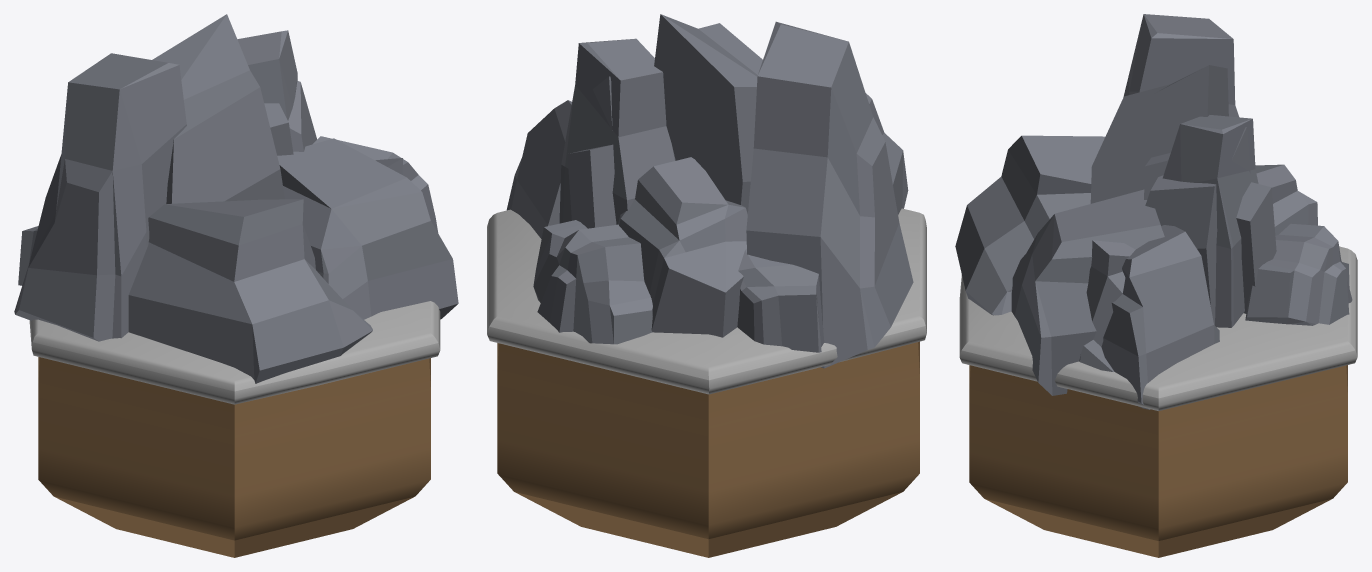
The model's file is Mountains3.fbx.
3 renders of one model, left to right at view 1: azimuth 30°, elevation 25°; view 2: azimuth 150°, elevation 25°; view 3: azimuth 270°, elevation 25°, orthographic. The views are drawn at different scales.
Visible parts, largest first — view 1: polySurface97; view 2: polySurface97; view 3: polySurface97.
Boxes of the visible parts, box(x1,y1,x2,y2) form: polySurface97: box(14, 14, 458, 557); polySurface97: box(487, 14, 926, 557); polySurface97: box(955, 14, 1357, 557).
Bounding box in the file's own units: 1.92 × 2.23 × 1.7.
